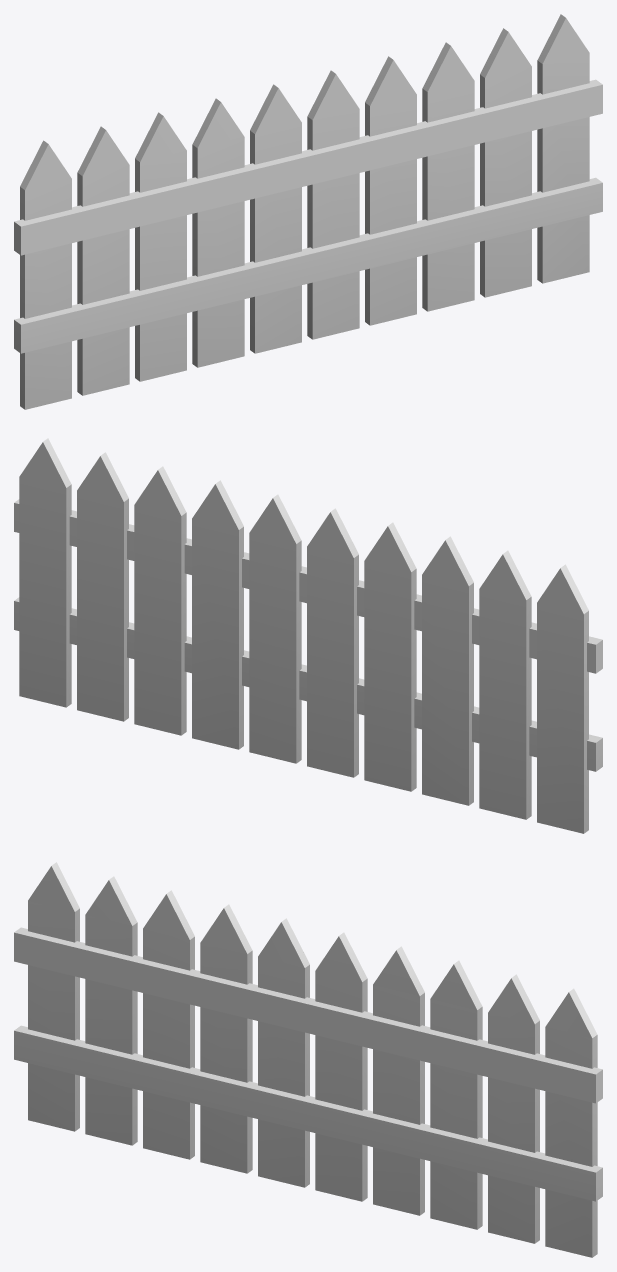
Rendered from fence_015.glb.
3 renders of one model, top to bottom at view 1: azimuth 30°, elevation 25°; view 2: azimuth 150°, elevation 25°; view 3: azimuth 330°, elevation 25°, orthographic.
Parts seen in each view (by area): view 1: fence_015.081; view 2: fence_015.081; view 3: fence_015.081.
Boxes of the visible parts, <box> form: fence_015.081: <box>14,14,602,409</box>; fence_015.081: <box>14,438,602,833</box>; fence_015.081: <box>14,862,602,1257</box>.
Bounding box in the file's own units: 2.56 × 1.09 × 0.0768.
Materials: 1 (1 with a texture image).
